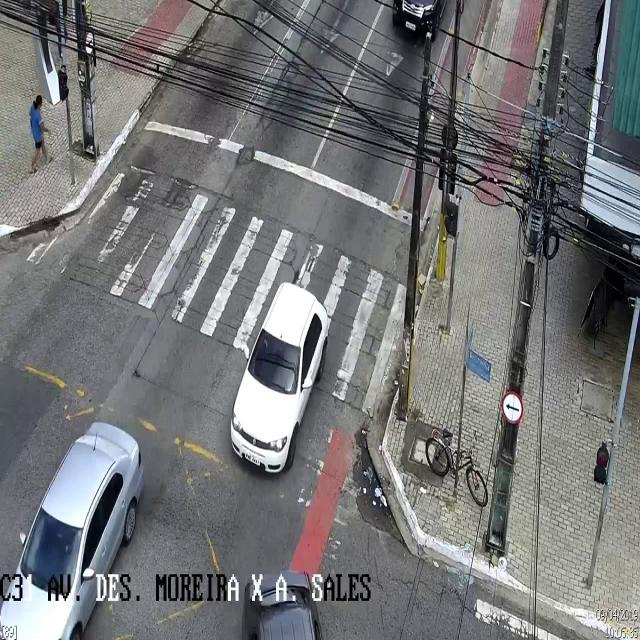Car: (228, 281, 328, 477), (379, 0, 453, 38)
